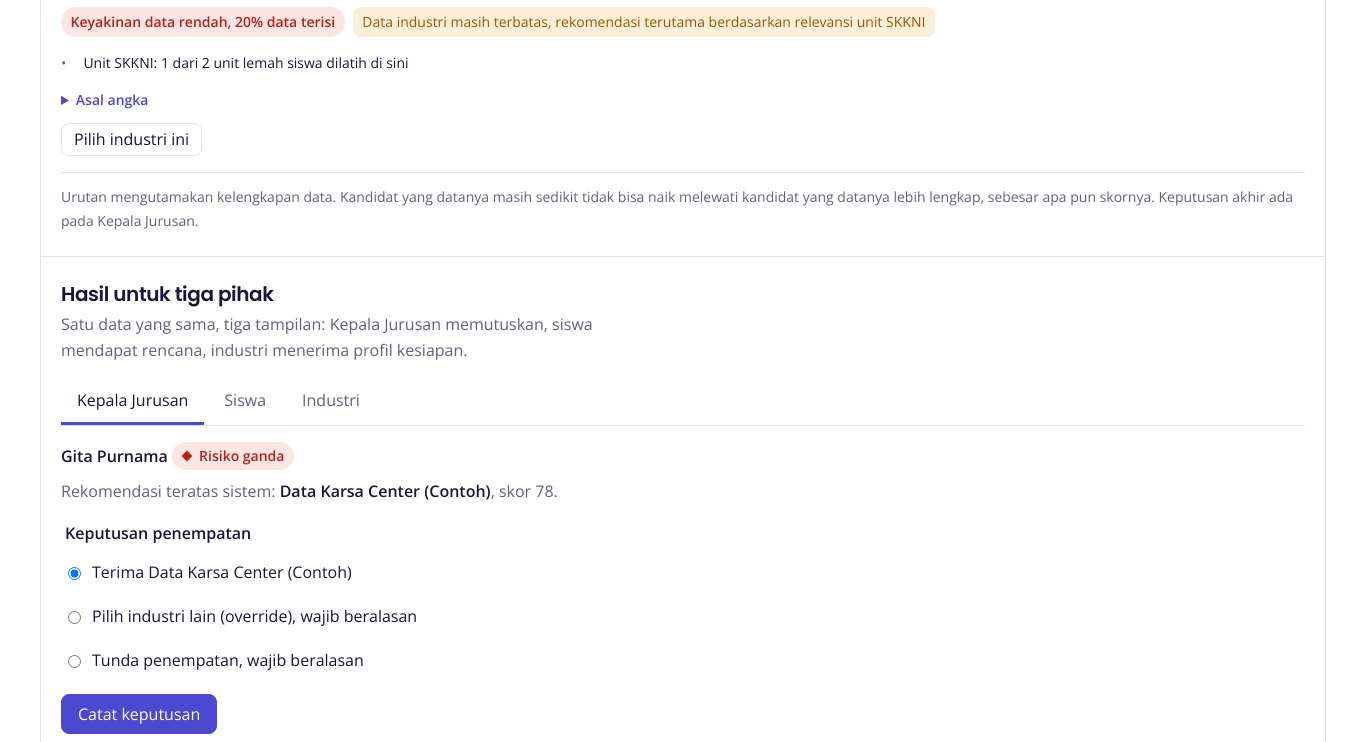
Test: panggung demo: interaksi setelah selesai › tab Siswa tidak menampilkan label profil dan tab Industri menampilkan dokumen
(page scrolled)
Click the tab "Siswa" at (245, 402), box left=208, top=379, right=282, bottom=425
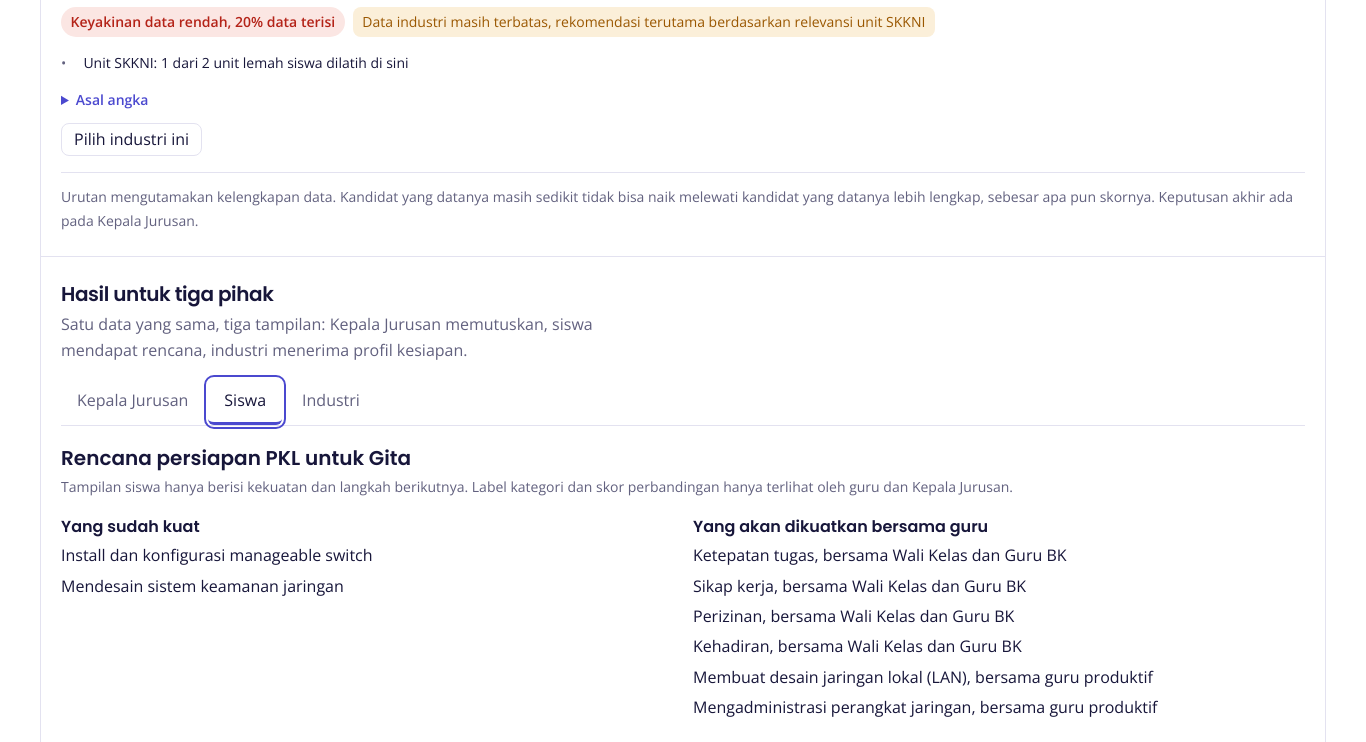
Expected: the text "Risiko ganda" is not shown
Expected: the text "Rencana persiapan PKL untuk Gita" is shown, left=61, top=444, right=411, bottom=472
Click the tab "Industri" at (331, 402), box left=286, top=379, right=376, bottom=425
(page scrolled)
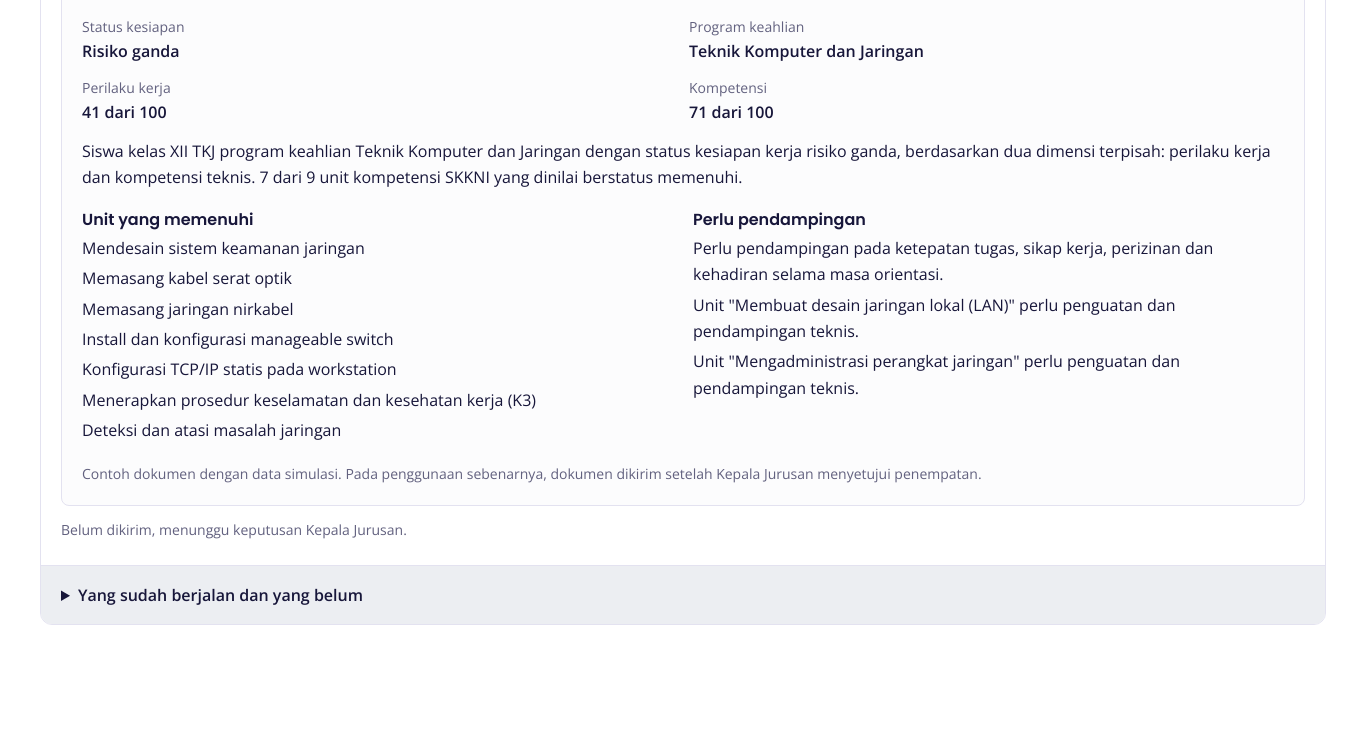
Expected: the text "Belum dikirim, menunggu keputusan Kepala Jurusan." is shown, left=61, top=520, right=407, bottom=539
